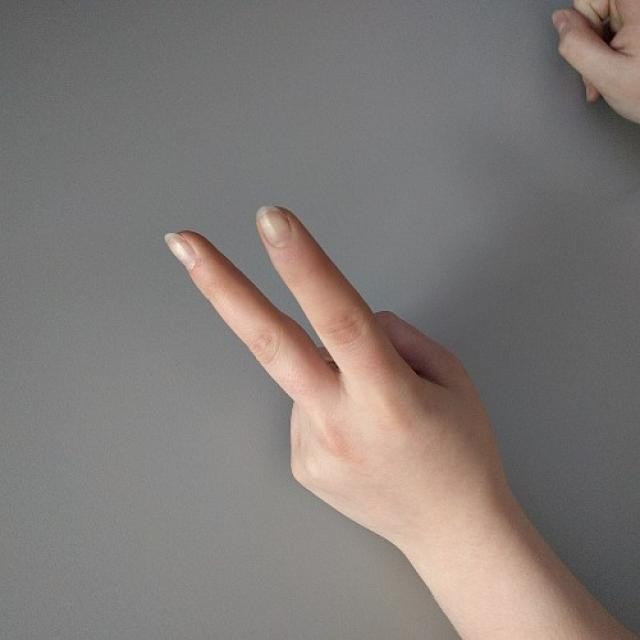scissors: (164, 205, 503, 514)
